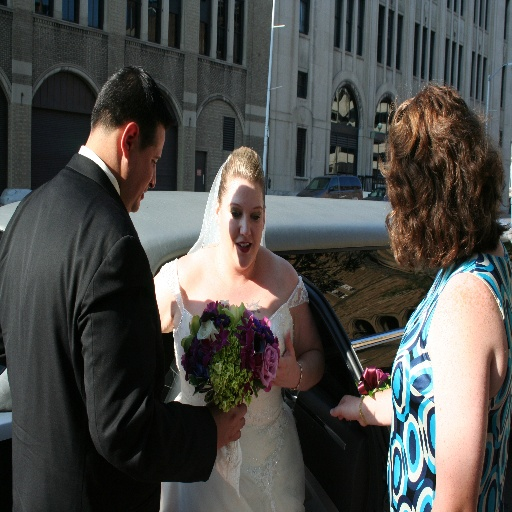hand: (205, 402, 247, 449), (271, 327, 300, 389), (330, 394, 362, 429)
